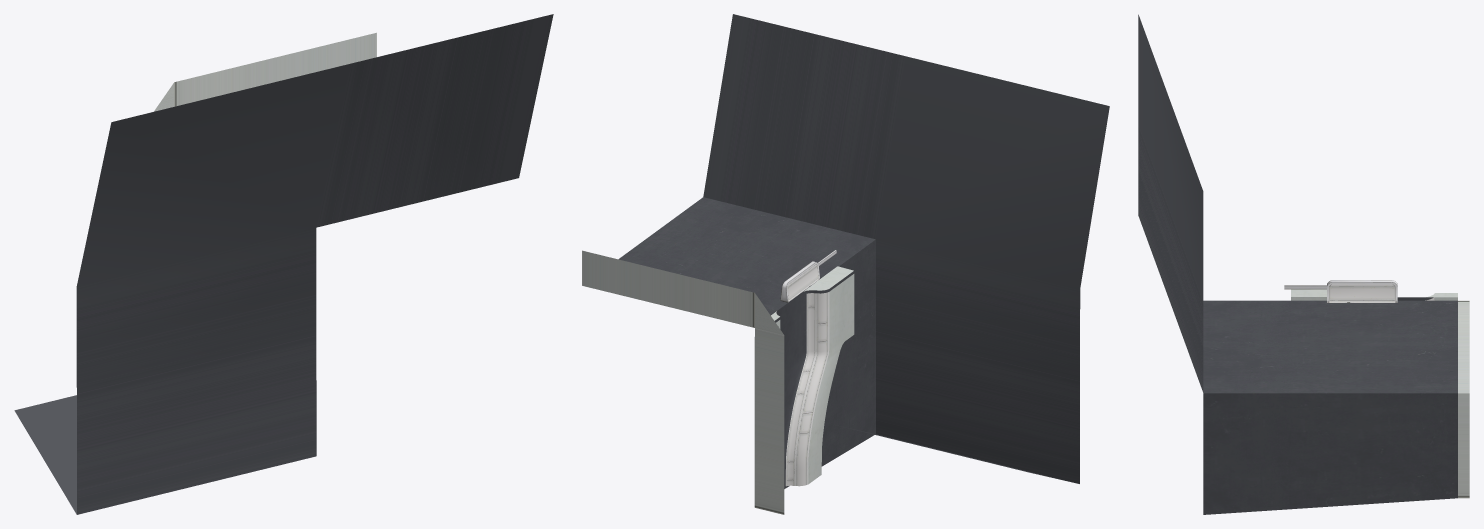
File: STA20_lobbywall01.FBX
3 views of the same model, side by side, from view 1: azimuth 30°, elevation 25°; view 2: azimuth 150°, elevation 25°; view 3: azimuth 270°, elevation 25° (orthographic). The views are drawn at different scales.
Visible parts, largest first — view 1: STA20_lobbywall01; view 2: STA20_lobbywall01; view 3: STA20_lobbywall01.
Part boxes in pixels (box(x1,y1,x2,y2)): STA20_lobbywall01: box(14, 14, 553, 514); STA20_lobbywall01: box(582, 14, 1109, 514); STA20_lobbywall01: box(1138, 14, 1469, 514).
Size of the model in its own units: 24.99 by 22.57 by 17.29.
